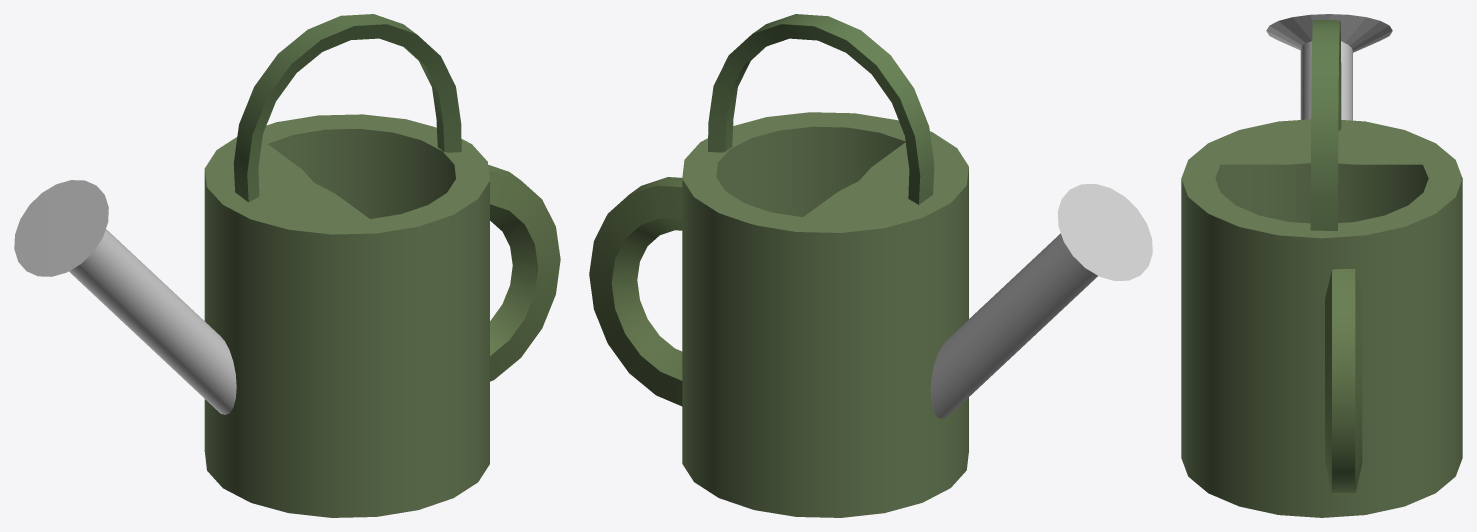
Rendered from Regador.fbx.
3 renders of one model, left to right at view 1: azimuth 30°, elevation 25°; view 2: azimuth 150°, elevation 25°; view 3: azimuth 270°, elevation 25°, orthographic.
Parts seen in each view (by area): view 1: pCylinder1, pCylinder2, pTorus1, pTorus2; view 2: pCylinder1, pCylinder2, pTorus2, pTorus1; view 3: pCylinder1, pTorus2, pTorus1, pCylinder2.
Boxes of the visible parts, x1=… form: pCylinder1: x1=204, y1=114, x2=489, y2=517; pCylinder2: x1=14, y1=180, x2=236, y2=414; pTorus1: x1=233, y1=14, x2=461, y2=202; pTorus2: x1=488, y1=165, x2=560, y2=381; pCylinder1: x1=682, y1=112, x2=968, y2=517; pCylinder2: x1=930, y1=184, x2=1152, y2=418; pTorus2: x1=589, y1=177, x2=682, y2=406; pTorus1: x1=708, y1=14, x2=934, y2=204; pCylinder1: x1=1181, y1=119, x2=1462, y2=517; pTorus2: x1=1325, y1=269, x2=1362, y2=494; pTorus1: x1=1310, y1=20, x2=1341, y2=230; pCylinder2: x1=1266, y1=14, x2=1392, y2=120.
Bounding box in the file's own units: 5.8 × 4.5 × 2.68.
